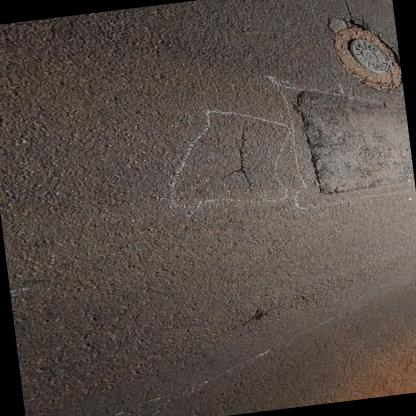manholes: (337, 28, 400, 82)
